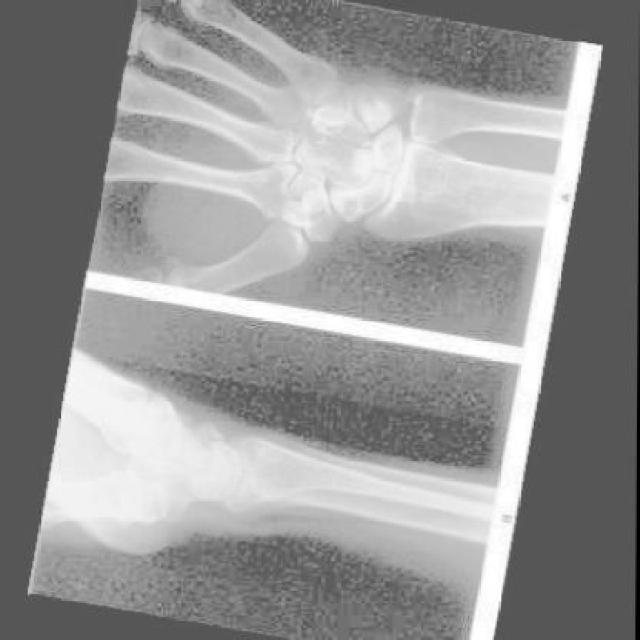Fracture: (309, 77, 354, 116), (166, 409, 205, 454)
